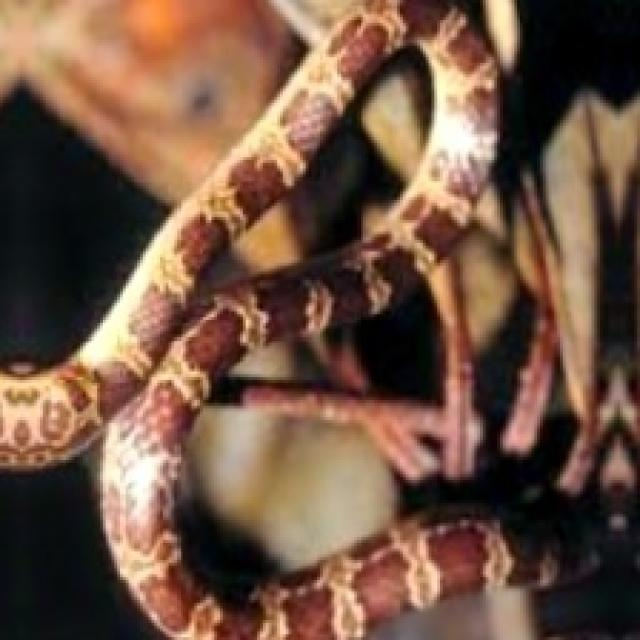mullers wolf snake: (0, 0, 637, 637), (0, 0, 494, 466), (0, 140, 154, 277)
